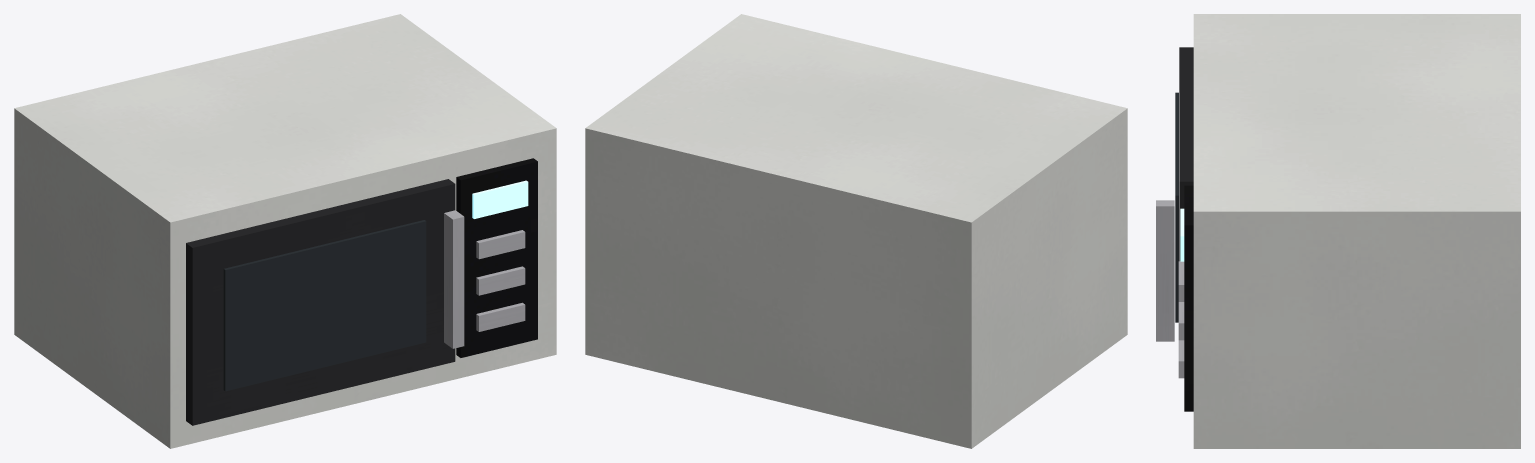
The picture shows the model from 3 angles, left to right: view 1: azimuth 30°, elevation 25°; view 2: azimuth 150°, elevation 25°; view 3: azimuth 270°, elevation 25°; orthographic projection. The views are drawn at different scales.
Visible parts, largest first — view 1: Microwave_Game; view 2: Microwave_Game; view 3: Microwave_Game.
Boxes of the visible parts, x1,y1,x2,y2 form: Microwave_Game: (14,14,556,448); Microwave_Game: (585,14,1127,448); Microwave_Game: (1156,14,1520,448).
Bounding box in the file's own units: 0.5 × 0.28 × 0.39.
Materials: 6 (4 with a texture image).
